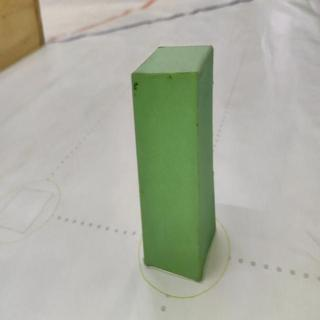greenbox: (129, 44, 214, 284)
